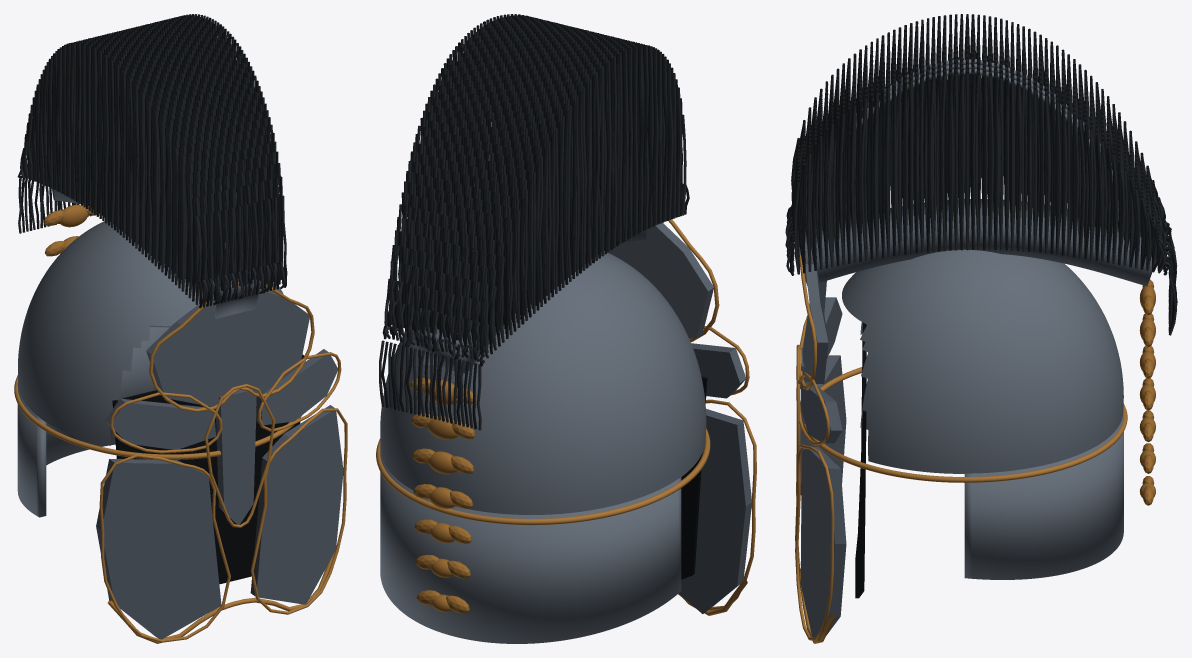
File: helmet-aqueo-redesigned-v3.glb
3 renders of one model, left to right at view 1: azimuth 30°, elevation 25°; view 2: azimuth 150°, elevation 25°; view 3: azimuth 270°, elevation 25°, orthographic. The views are drawn at different scales.
Parts seen in each view (by area): view 1: Aqueo_CrestFibres, Aqueo_Shell, Aqueo_CheekL, Aqueo_CheekR, Aqueo_Forehead, Aqueo_NeckGuard, Aqueo_InteriorLiner, Aqueo_NoseGuard, Aqueo_BrowL, Aqueo_BrowR, Aqueo_CheekLTrim, Aqueo_CheekRTrim (+8 smaller); view 2: Aqueo_CrestFibres, Aqueo_Shell, Aqueo_NeckGuard, Aqueo_CheekL, Aqueo_Forehead, Aqueo_LowerBand, Aqueo_BrowL, Aqueo_InteriorLiner, Aqueo_CrestRail, Aqueo_CheekLTrim, Aqueo_ForeheadTrim; view 3: Aqueo_CrestFibres, Aqueo_Shell, Aqueo_NeckGuard, Aqueo_CrestRail, Aqueo_CheekR, Aqueo_LowerBand, Aqueo_Forehead, Aqueo_BrowR, Aqueo_CheekRTrim, Aqueo_InteriorLiner, Aqueo_CheekL, Aqueo_BrowL (+2 smaller).
Part boxes in pixels (x1,y1,x2,y2): Aqueo_CrestFibres: [17, 14, 287, 308]; Aqueo_Shell: [18, 220, 283, 445]; Aqueo_CheekL: [96, 459, 221, 639]; Aqueo_CheekR: [250, 405, 343, 604]; Aqueo_Forehead: [146, 289, 309, 406]; Aqueo_NeckGuard: [17, 326, 170, 517]; Aqueo_InteriorLiner: [112, 354, 303, 584]; Aqueo_NoseGuard: [215, 389, 256, 524]; Aqueo_BrowL: [105, 398, 215, 449]; Aqueo_BrowR: [256, 349, 337, 425]; Aqueo_CheekLTrim: [99, 454, 230, 642]; Aqueo_CheekRTrim: [250, 408, 347, 614]; Aqueo_CrestFibres: [379, 14, 689, 430]; Aqueo_Shell: [380, 251, 706, 514]; Aqueo_NeckGuard: [380, 444, 681, 643]; Aqueo_CheekL: [679, 409, 751, 613]; Aqueo_Forehead: [604, 222, 713, 338]; Aqueo_LowerBand: [376, 428, 710, 525]; Aqueo_BrowL: [691, 343, 746, 398]; Aqueo_InteriorLiner: [681, 376, 707, 579]; Aqueo_CrestRail: [417, 229, 646, 373]; Aqueo_CheekLTrim: [678, 399, 756, 610]; Aqueo_ForeheadTrim: [668, 219, 719, 342]; Aqueo_CrestFibres: [785, 14, 1177, 335]; Aqueo_Shell: [842, 249, 1123, 473]; Aqueo_NeckGuard: [964, 408, 1123, 579]; Aqueo_CrestRail: [799, 199, 1156, 286]; Aqueo_CheekR: [800, 447, 846, 637]; Aqueo_LowerBand: [803, 367, 1127, 482]; Aqueo_Forehead: [802, 264, 828, 383]; Aqueo_BrowR: [801, 382, 842, 443]; Aqueo_CheekRTrim: [795, 444, 834, 640]; Aqueo_InteriorLiner: [855, 322, 866, 598]; Aqueo_CheekL: [800, 355, 846, 565]; Aqueo_BrowL: [824, 297, 842, 358].
Size of the model in its own units: 1.44 by 2.96 by 1.87.
